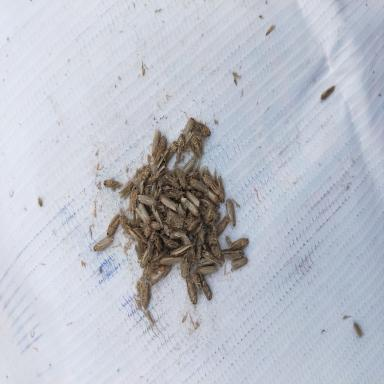pbw: (150, 264, 173, 287), (152, 134, 167, 166), (201, 174, 221, 196), (180, 110, 195, 138), (199, 271, 212, 301), (168, 242, 194, 257), (134, 203, 151, 225), (186, 276, 199, 304), (140, 242, 154, 268), (107, 211, 121, 237), (180, 198, 200, 216), (201, 250, 223, 266), (128, 228, 147, 246), (129, 185, 139, 219), (180, 250, 192, 278), (163, 141, 177, 165), (225, 198, 236, 228), (147, 167, 169, 182), (188, 178, 208, 194), (217, 213, 230, 237), (192, 266, 202, 297), (181, 235, 195, 257), (93, 236, 113, 251), (160, 234, 180, 249), (175, 166, 188, 189), (160, 194, 177, 211), (164, 174, 182, 190), (230, 256, 248, 272), (118, 181, 133, 200), (192, 121, 211, 136), (228, 237, 249, 250), (182, 130, 194, 152), (190, 134, 202, 156), (185, 190, 200, 207), (151, 129, 160, 157), (182, 157, 196, 175), (196, 265, 218, 276), (120, 215, 132, 235), (164, 188, 184, 200), (221, 249, 245, 259), (137, 194, 157, 206), (211, 245, 225, 262), (142, 281, 150, 310), (151, 204, 162, 225), (201, 209, 220, 221), (320, 85, 336, 99), (206, 188, 219, 204), (204, 203, 213, 226), (139, 221, 161, 230), (177, 133, 184, 161), (159, 257, 183, 265), (218, 176, 225, 203), (353, 322, 364, 338), (187, 219, 202, 230), (103, 179, 121, 188), (156, 174, 166, 190), (134, 241, 142, 260), (198, 257, 214, 265), (142, 168, 151, 182), (265, 24, 276, 35), (191, 226, 200, 236), (151, 181, 156, 197), (225, 236, 232, 246), (144, 185, 150, 195)
